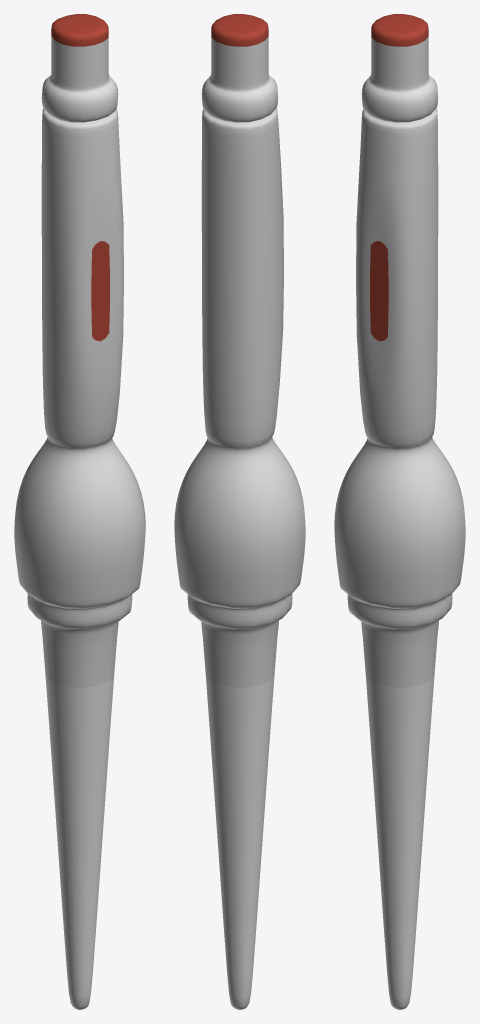
The model's file is Mikropipet.fbx.
The picture shows the model from 3 angles, left to right: view 1: azimuth 30°, elevation 25°; view 2: azimuth 150°, elevation 25°; view 3: azimuth 330°, elevation 25°; orthographic projection.
Visible parts, largest first — view 1: Cube.059; view 2: Cube.059; view 3: Cube.059.
Boxes of the visible parts, box(x1,y1,x2,y2) form: Cube.059: box(14, 14, 145, 1009); Cube.059: box(174, 14, 305, 1009); Cube.059: box(334, 14, 465, 1009).
Size of the model in its own units: 2.22 by 18.51 by 2.22.
